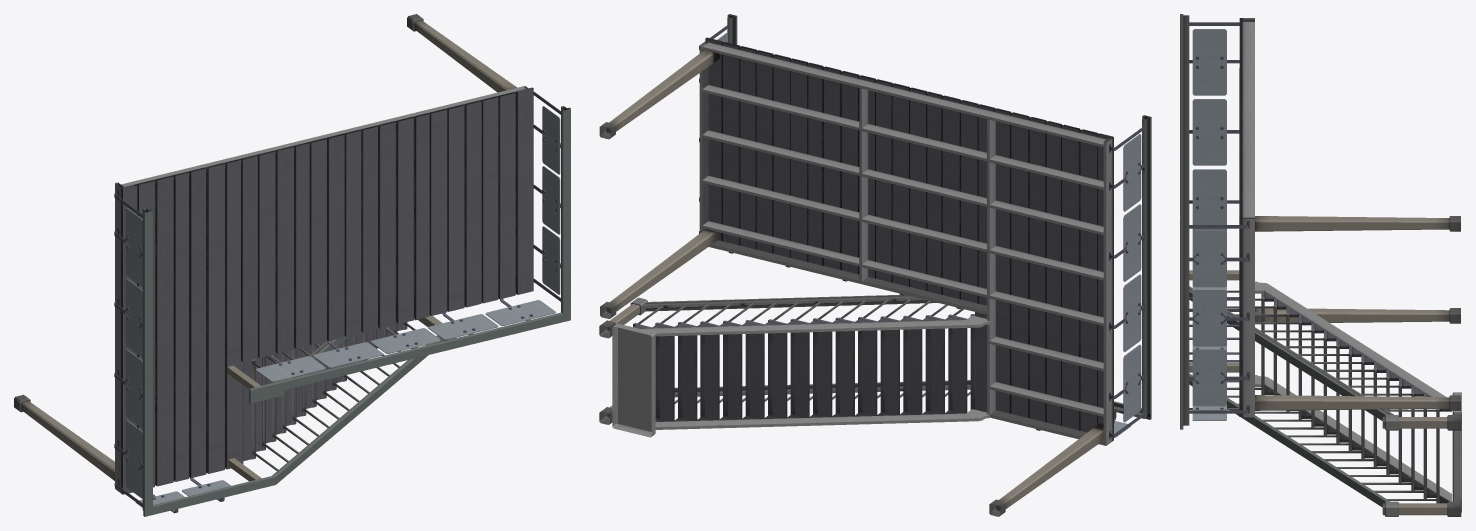
File: nt_2020_house_02_balcony_LOD0.obj
The picture shows the model from 3 angles, left to right: view 1: azimuth 30°, elevation 25°; view 2: azimuth 150°, elevation 25°; view 3: azimuth 270°, elevation 25°; orthographic projection.
Visible parts, largest first — view 1: mtl_nt_2020_house_02_balcony, glass_clear_mp; view 2: mtl_nt_2020_house_02_balcony, glass_clear_mp; view 3: mtl_nt_2020_house_02_balcony, glass_clear_mp.
Part boxes in pixels (x1,y1,x2,y2): mtl_nt_2020_house_02_balcony: [14, 14, 570, 516]; glass_clear_mp: [125, 106, 560, 507]; mtl_nt_2020_house_02_balcony: [599, 14, 1151, 516]; glass_clear_mp: [717, 33, 1141, 437]; mtl_nt_2020_house_02_balcony: [1180, 14, 1461, 516]; glass_clear_mp: [1192, 29, 1226, 420].
Size of the model in its own units: 792 by 553 by 458.
